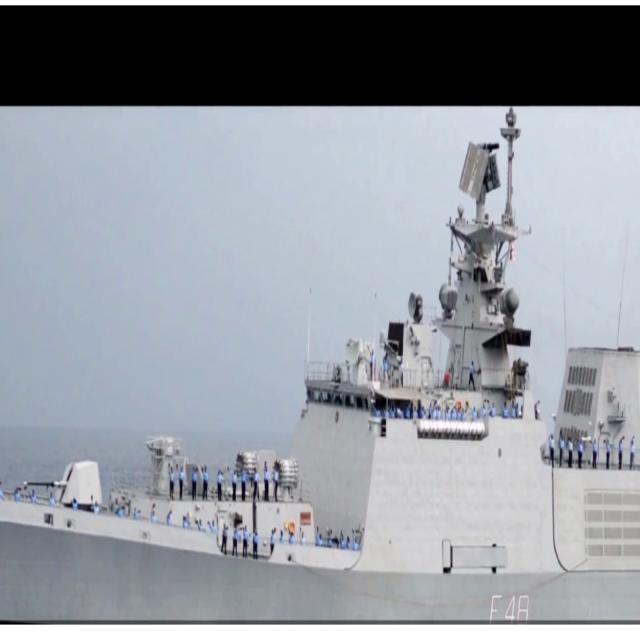OCR: (483, 587, 535, 623)
